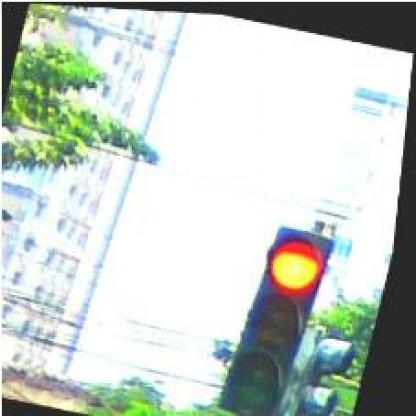red: (222, 215, 339, 415)
